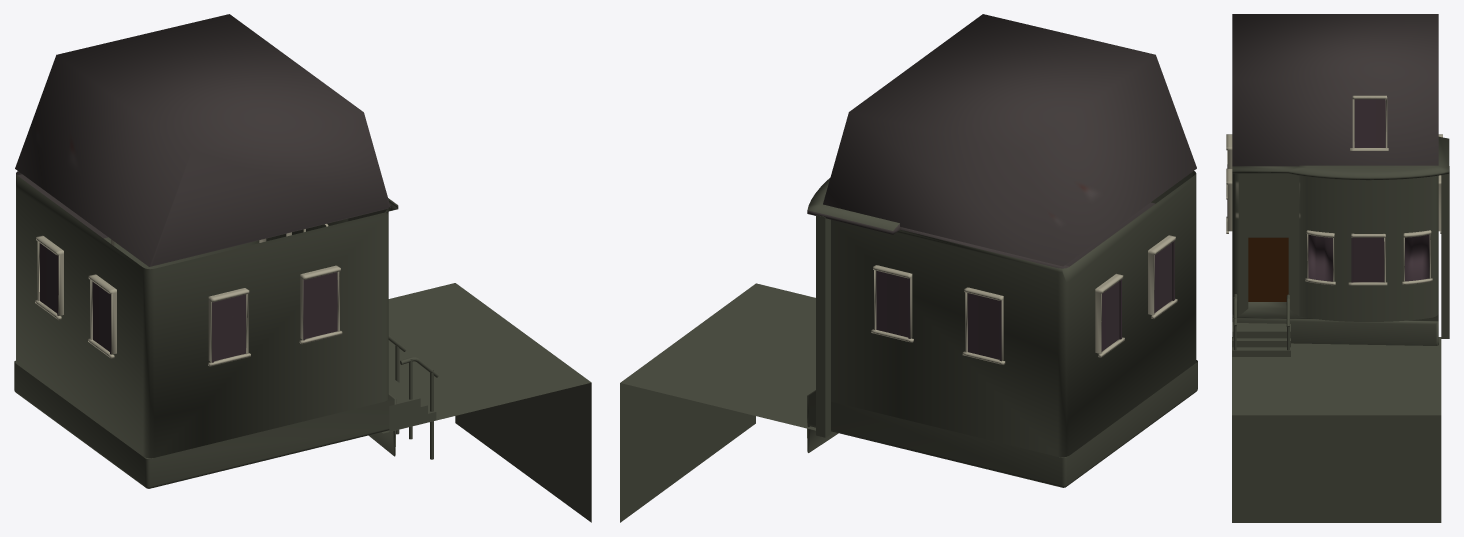
File: MassAve_House_2_Mesh.fbx
The picture shows the model from 3 angles, left to right: view 1: azimuth 30°, elevation 25°; view 2: azimuth 150°, elevation 25°; view 3: azimuth 270°, elevation 25°; orthographic projection. The views are drawn at different scales.
Parts seen in each view (by area): view 1: House1.001; view 2: House1.001; view 3: House1.001.
Boxes of the visible parts, left/top/right/bottom form: House1.001: left=14, top=14, right=591, bottom=522; House1.001: left=620, top=14, right=1197, bottom=522; House1.001: left=1226, top=14, right=1449, bottom=522.
Bounding box in the file's own units: 1180 × 1168 × 659.
Materials: 1 (1 with a texture image).
